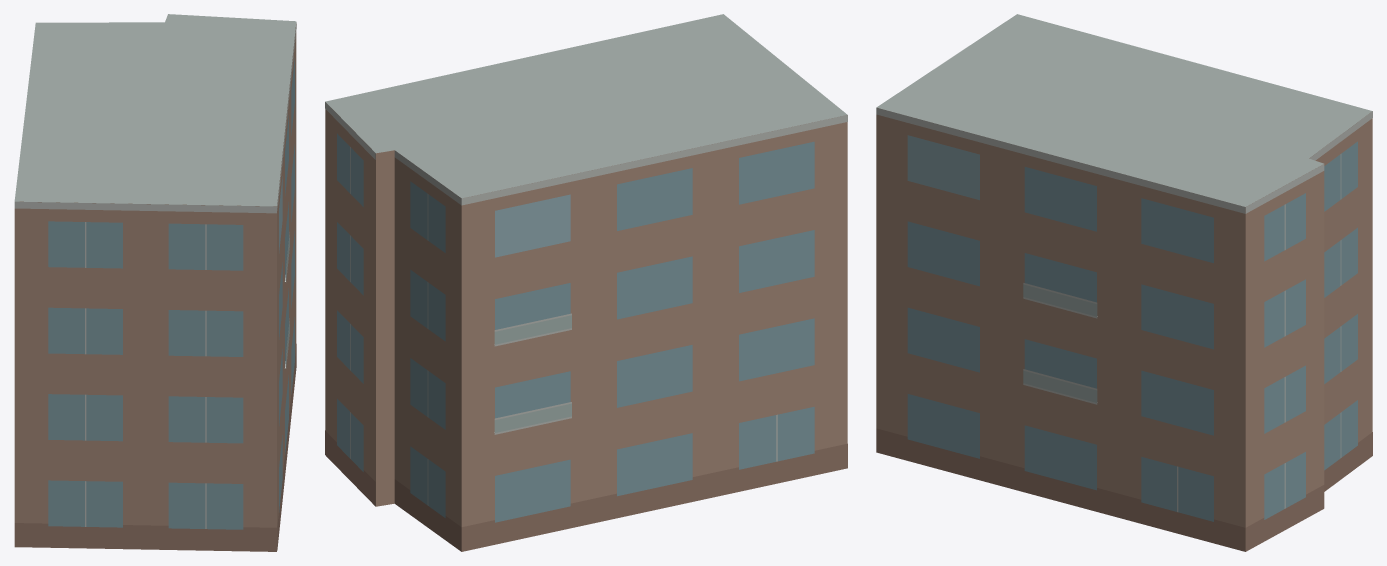
The model's file is survey-upis-32659671.glb.
3 renders of one model, left to right at view 1: azimuth 30°, elevation 25°; view 2: azimuth 150°, elevation 25°; view 3: azimuth 270°, elevation 25°, orthographic. The views are drawn at different scales.
Parts seen in each view (by area): view 1: survey-upis-32659671.tmp; view 2: survey-upis-32659671.tmp; view 3: survey-upis-32659671.tmp.
Boxes of the visible parts, <box> form: survey-upis-32659671.tmp: <box>14,14,296,551</box>; survey-upis-32659671.tmp: <box>325,14,847,551</box>; survey-upis-32659671.tmp: <box>876,14,1372,551</box>.
Size of the model in its own units: 14.66 by 12.2 by 15.93.
